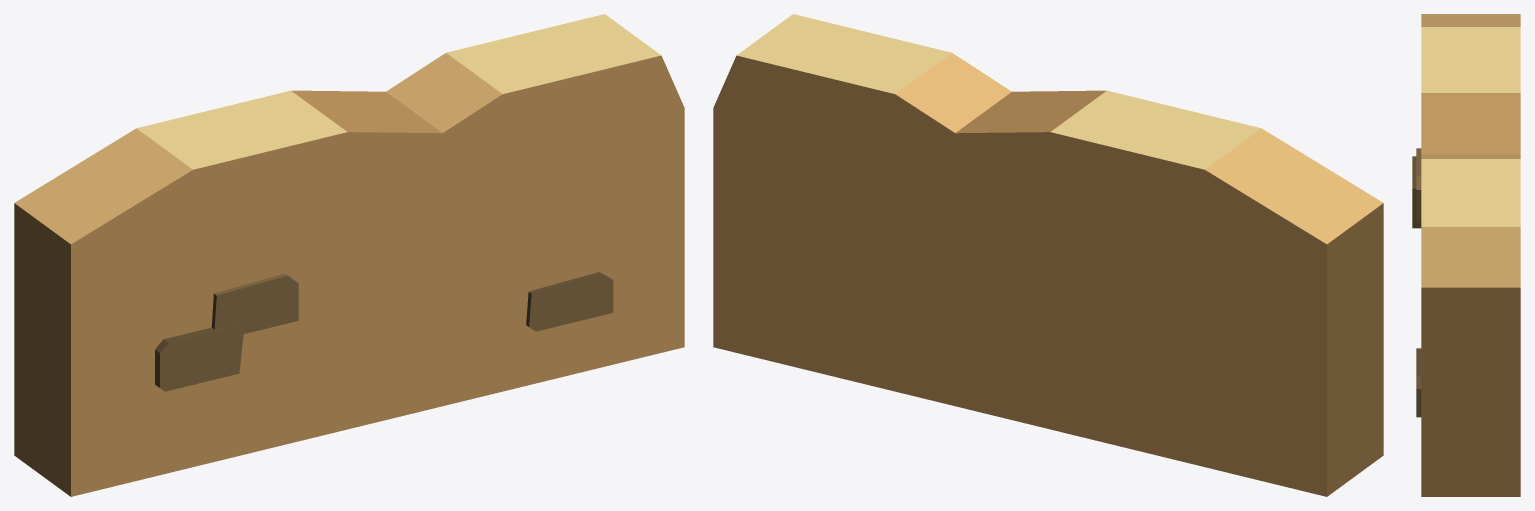
Rendered from TB_D_Bd_Fence_Dirt_Yel_B.FBX.
3 renders of one model, left to right at view 1: azimuth 30°, elevation 25°; view 2: azimuth 150°, elevation 25°; view 3: azimuth 270°, elevation 25°, orthographic. The views are drawn at different scales.
Parts seen in each view (by area): view 1: TB_D_Bd_Fence_Dirt_Yel_B; view 2: TB_D_Bd_Fence_Dirt_Yel_B; view 3: TB_D_Bd_Fence_Dirt_Yel_B.
Boxes of the visible parts, x1,y1,x2,y2 form: TB_D_Bd_Fence_Dirt_Yel_B: (14, 14, 684, 496); TB_D_Bd_Fence_Dirt_Yel_B: (713, 14, 1383, 496); TB_D_Bd_Fence_Dirt_Yel_B: (1412, 14, 1520, 496).
Size of the model in its own units: 2.5 by 1.16 by 0.4358.
